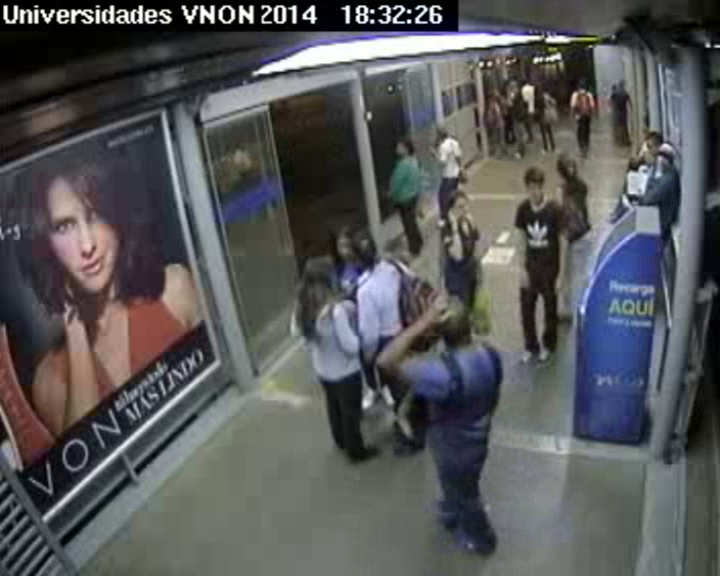person: (433, 294, 483, 349), (300, 253, 339, 298), (520, 166, 552, 205), (350, 233, 383, 267), (330, 226, 359, 263), (443, 189, 474, 222), (556, 156, 581, 182), (644, 128, 665, 155), (654, 143, 677, 167), (392, 137, 414, 160), (435, 125, 450, 141), (534, 80, 545, 93), (576, 79, 587, 90), (488, 89, 497, 101), (510, 78, 519, 89), (521, 76, 530, 86), (501, 79, 510, 89), (617, 80, 626, 89), (578, 94, 588, 102)
